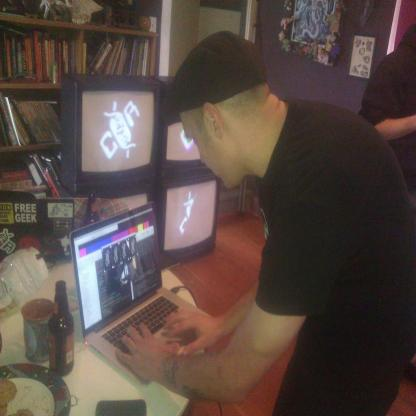board: (64, 201, 234, 391), (50, 279, 74, 375), (23, 301, 56, 362)
